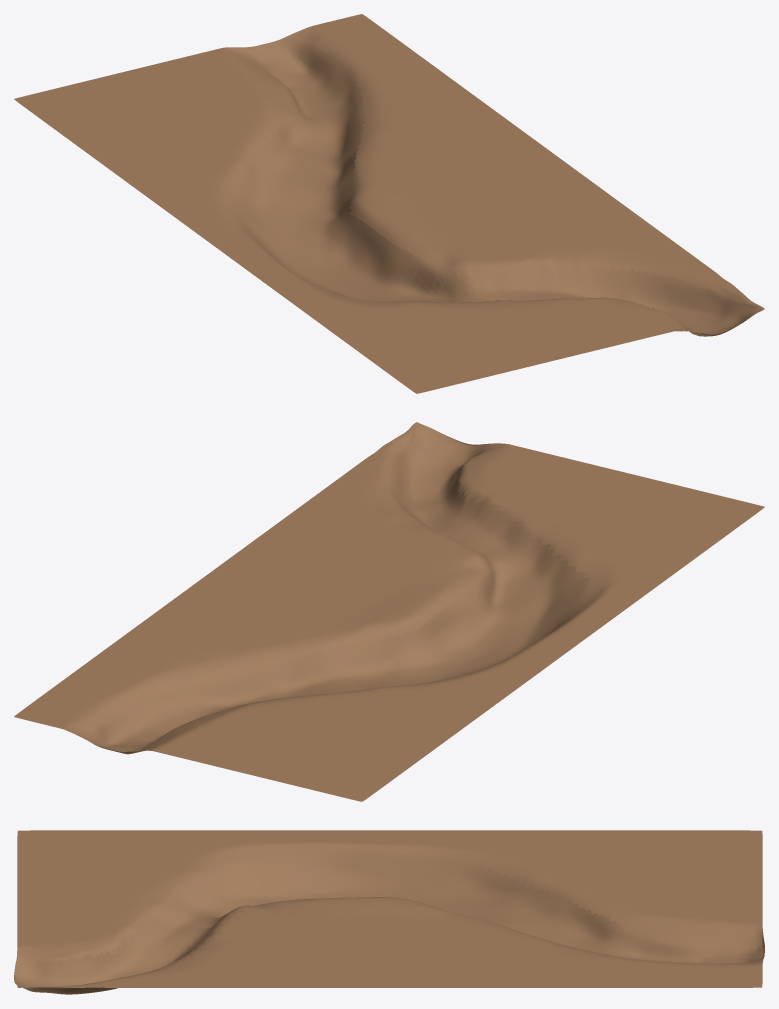
Rendered from map_1 v.2.glb.
The picture shows the model from 3 angles, top to bottom: view 1: azimuth 30°, elevation 25°; view 2: azimuth 150°, elevation 25°; view 3: azimuth 270°, elevation 25°; orthographic projection. The views are drawn at different scales.
Visible parts, largest first — view 1: Ground; view 2: Ground; view 3: Ground.
Part boxes in pixels (x1,y1,x2,y2): Ground: (14, 14, 764, 393); Ground: (14, 422, 764, 801); Ground: (14, 830, 764, 994).
Bounding box in the file's own units: 500 × 51.77 × 1008.
